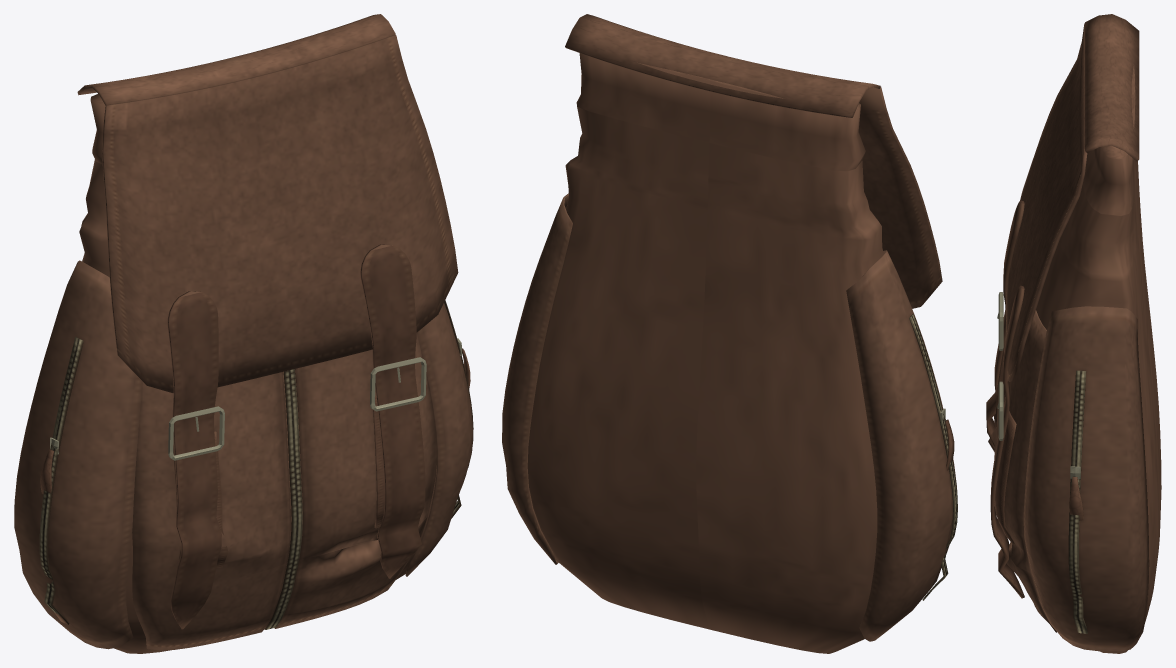
The model's file is MillooScratch.glb.
3 renders of one model, left to right at view 1: azimuth 30°, elevation 25°; view 2: azimuth 150°, elevation 25°; view 3: azimuth 270°, elevation 25°, orthographic. The views are drawn at different scales.
Parts seen in each view (by area): view 1: Milloo Scratch Game Mesh; view 2: Milloo Scratch Game Mesh; view 3: Milloo Scratch Game Mesh.
Part boxes in pixels (left/top/right/bottom): Milloo Scratch Game Mesh: left=14, top=14, right=473, bottom=653; Milloo Scratch Game Mesh: left=502, top=14, right=957, bottom=653; Milloo Scratch Game Mesh: left=986, top=14, right=1161, bottom=653.
Bounding box in the file's own units: 0.9388 × 1.19 × 0.3617.
Materials: 1 (1 with a texture image).
